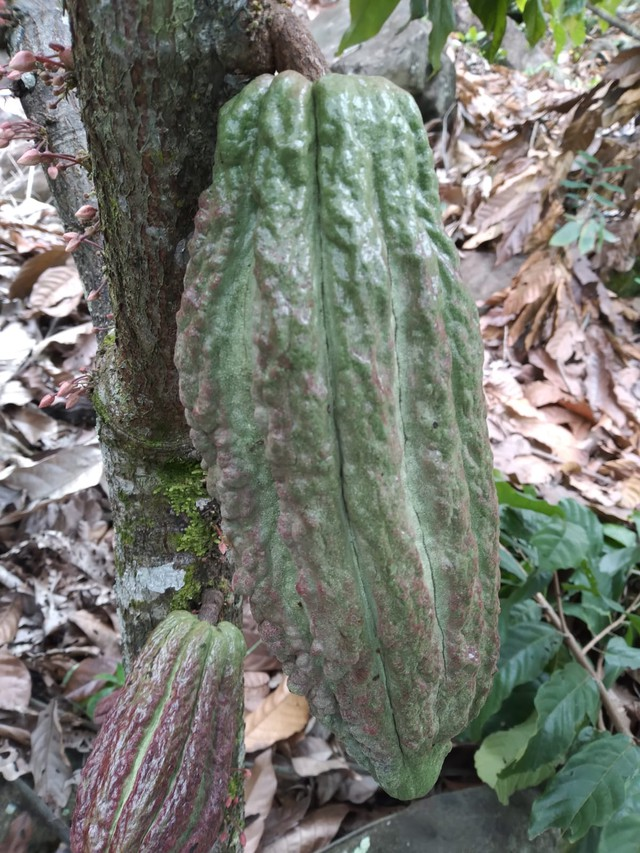Health: (166, 54, 510, 810)
